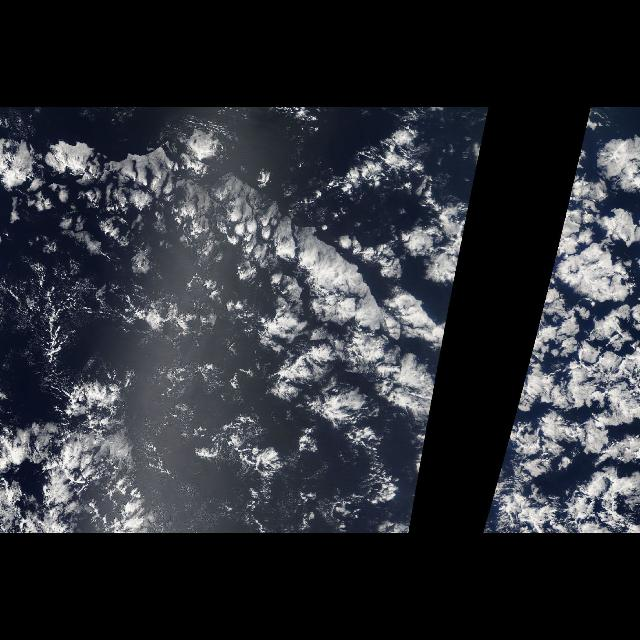Fish: (21, 219, 95, 387)
Flower: (2, 111, 456, 533), (482, 253, 640, 533)
Gravel: (8, 266, 234, 376)
